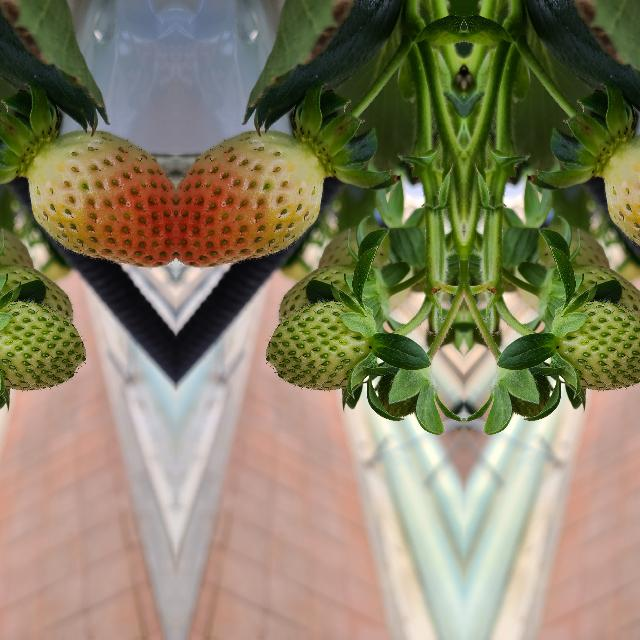Health_50: (264, 300, 372, 390), (554, 300, 640, 389), (0, 300, 85, 389)
Health_75: (175, 126, 325, 270), (25, 126, 175, 270), (601, 125, 640, 270)
